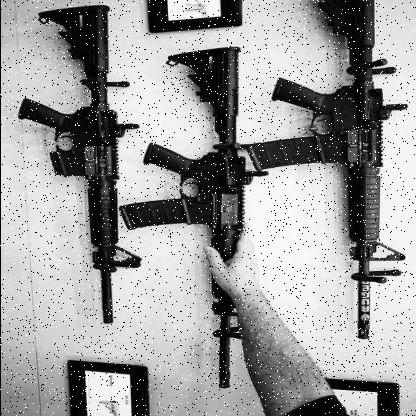rifle: (247, 0, 410, 352), (117, 42, 263, 397), (14, 6, 133, 335)
